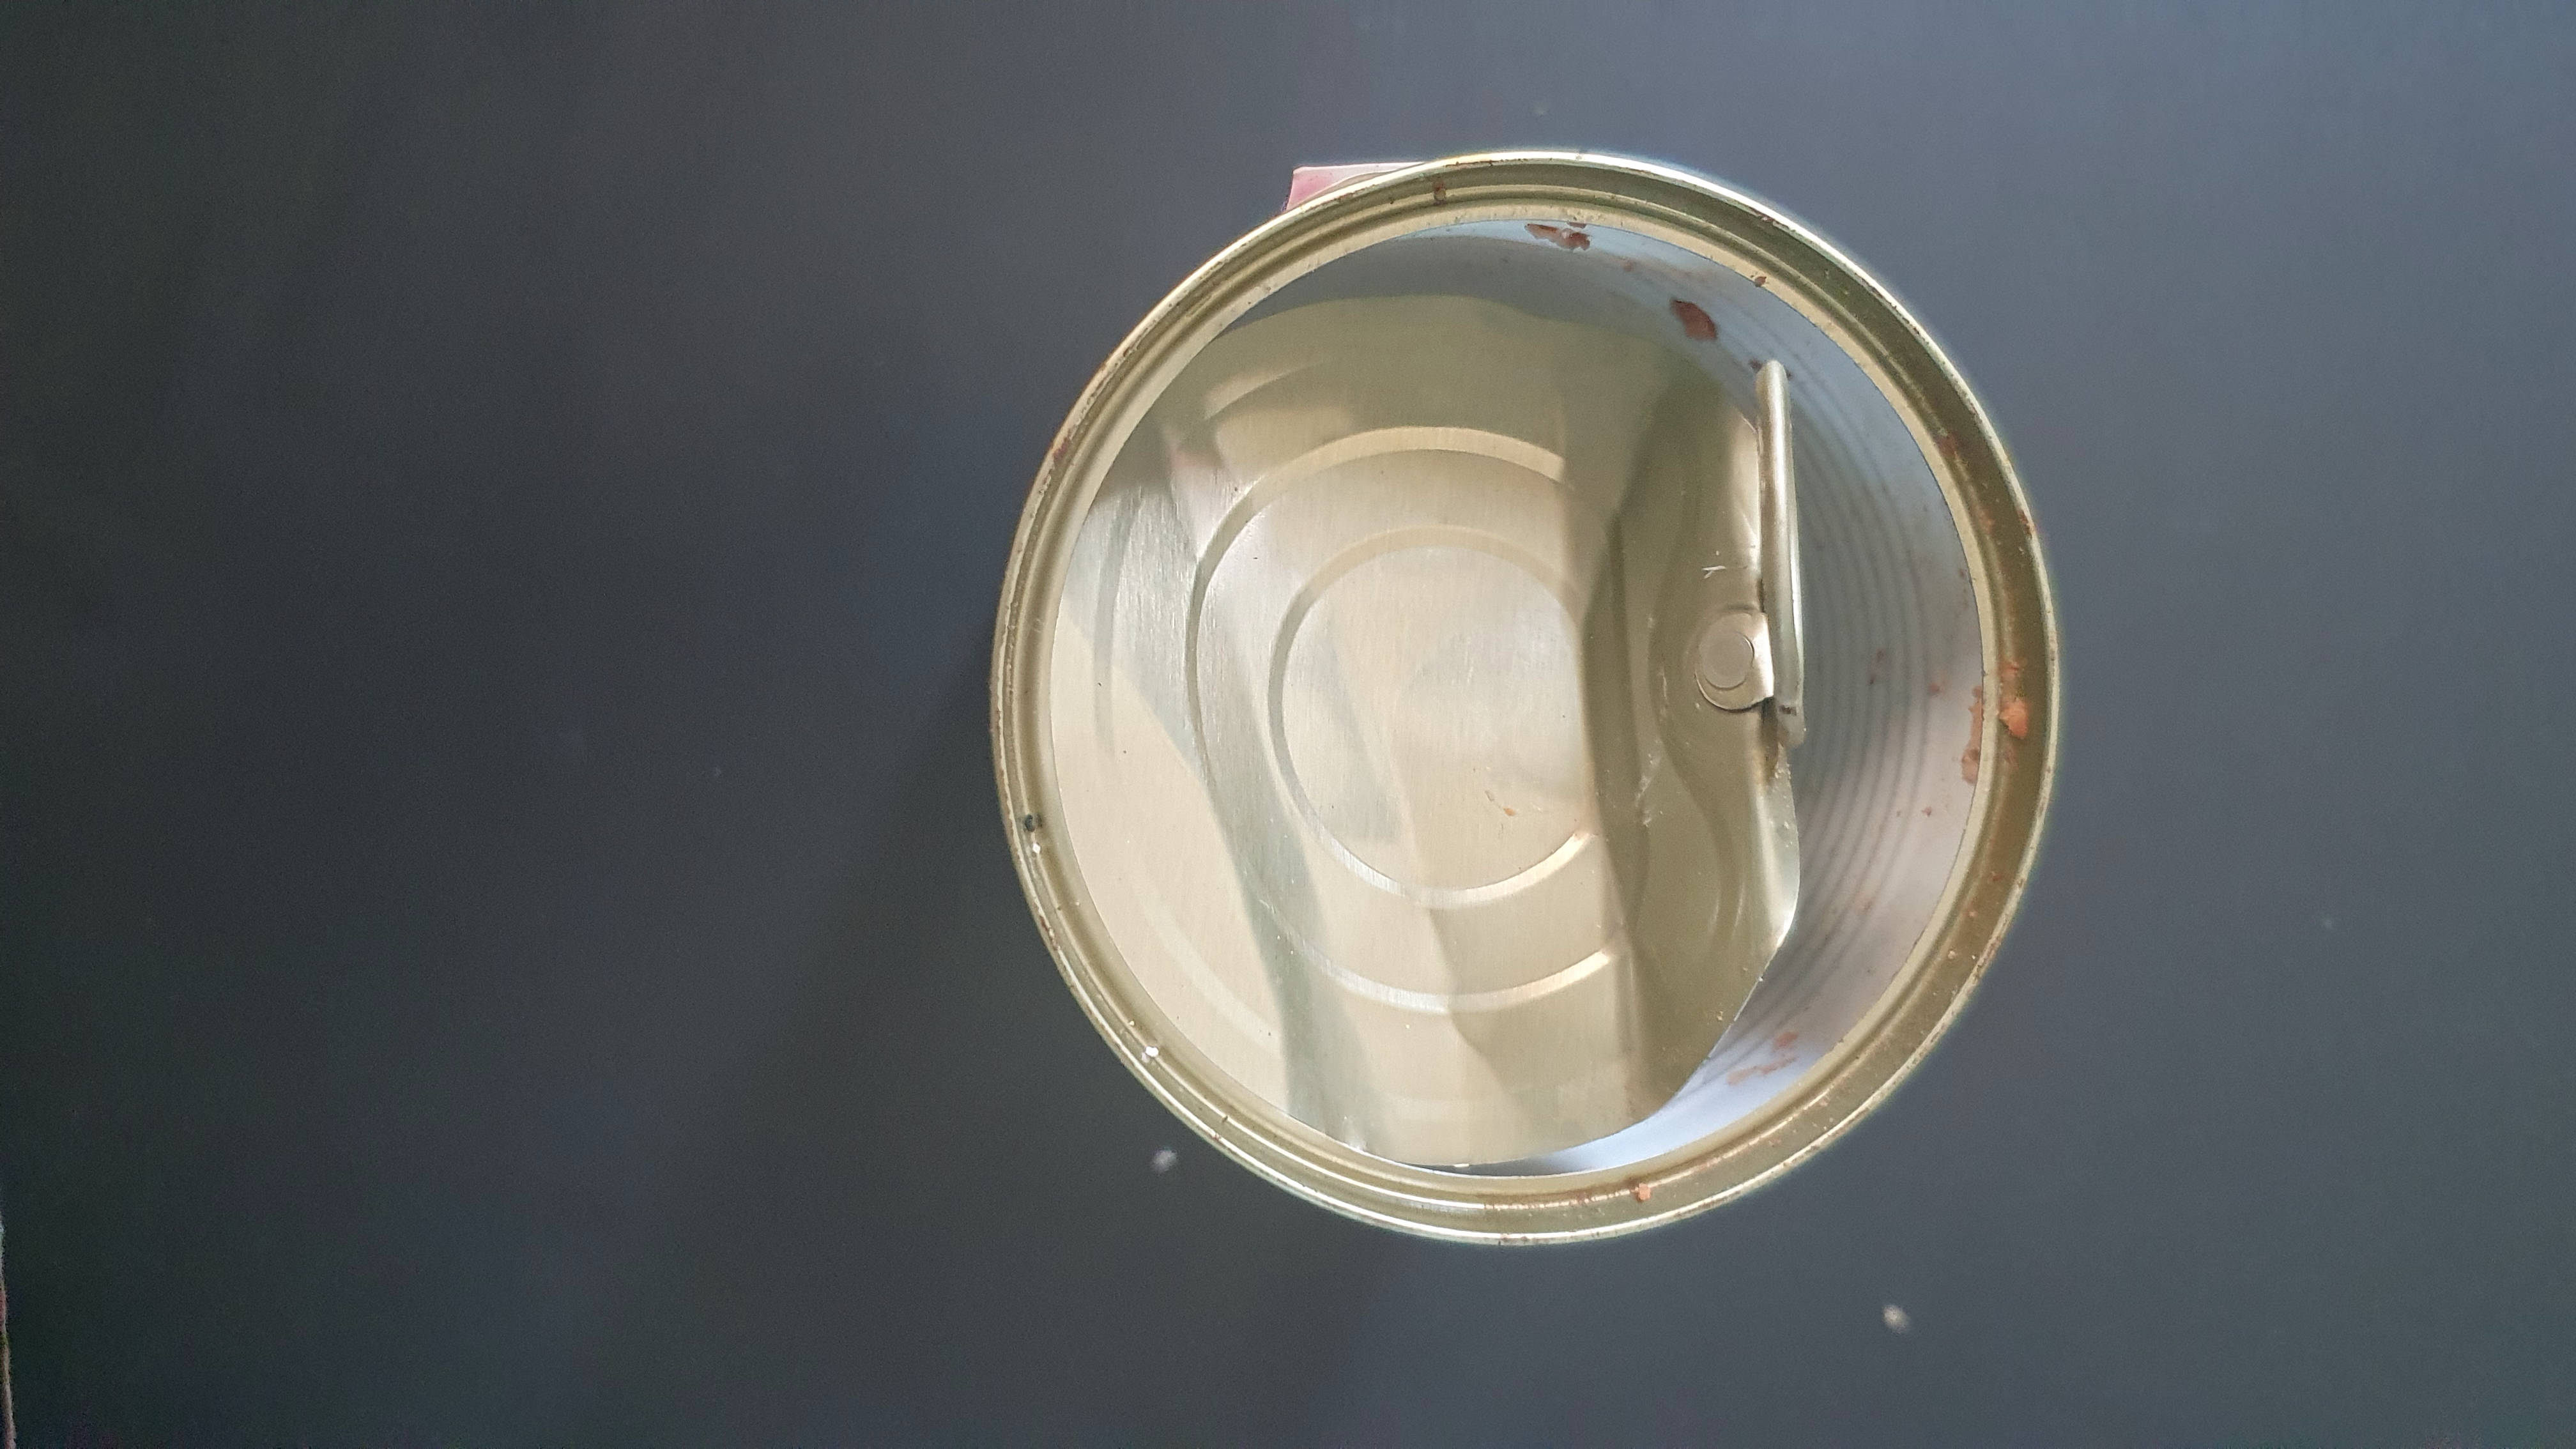metal: (966, 101, 2088, 1279)
